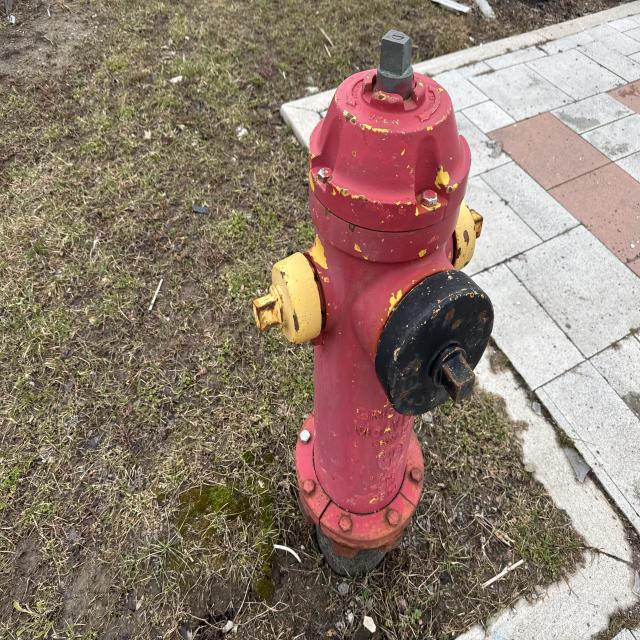Fire hydrant: (251, 29, 495, 562)
